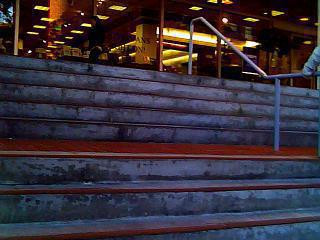Escaleras: (4, 53, 319, 149), (0, 148, 319, 239)
